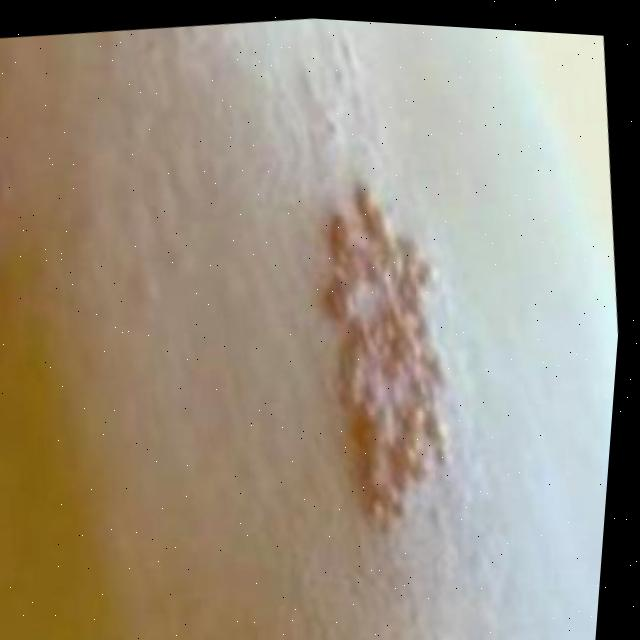Shingles: (282, 165, 487, 554)
